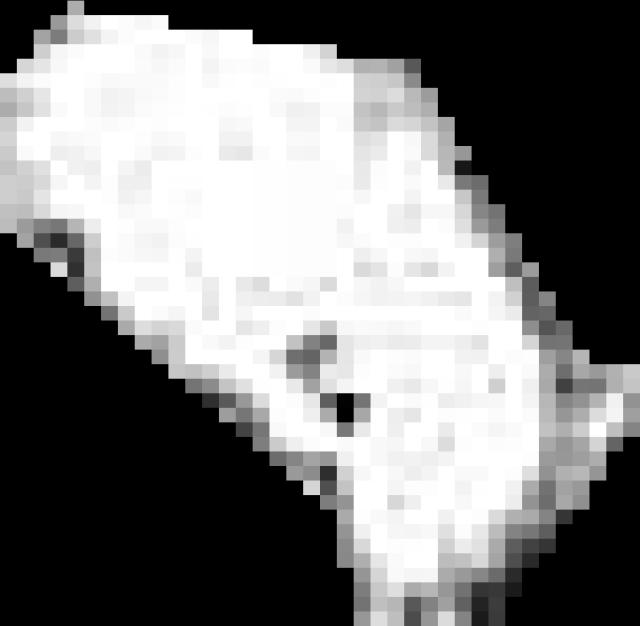tumor_good_chance: (0, 1, 640, 626)
